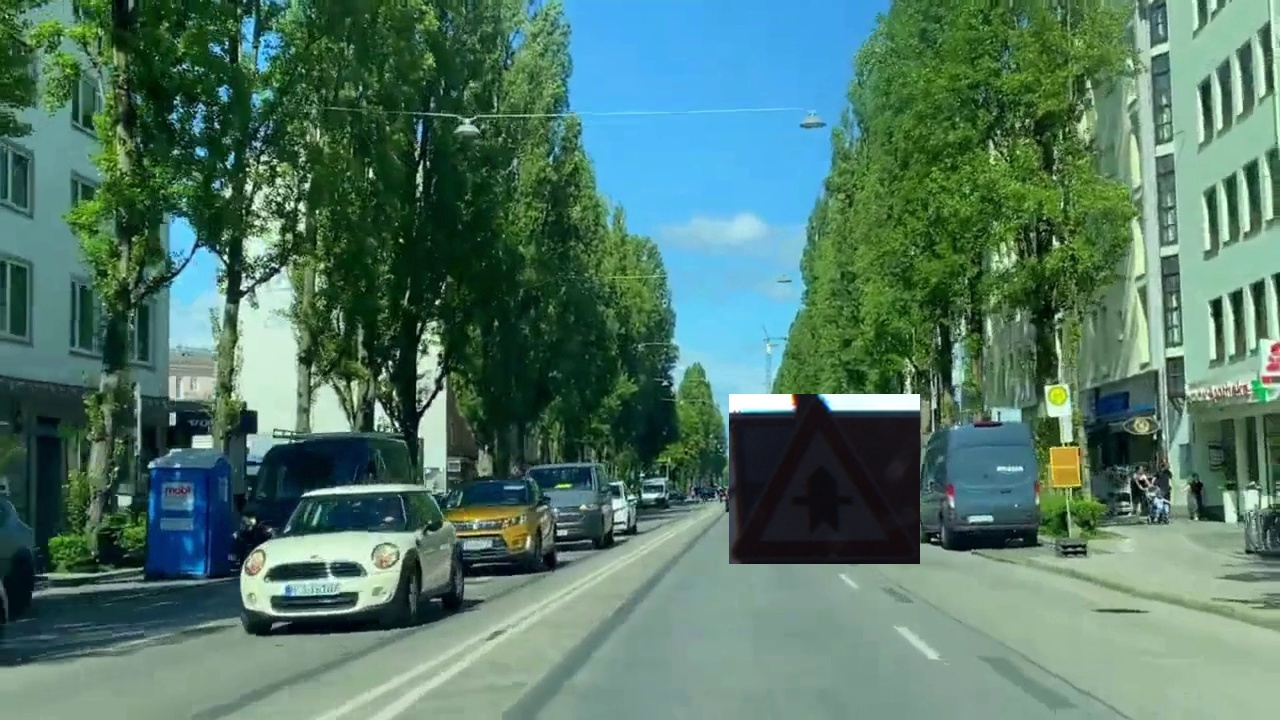Right-of-way: (729, 394, 920, 564)
